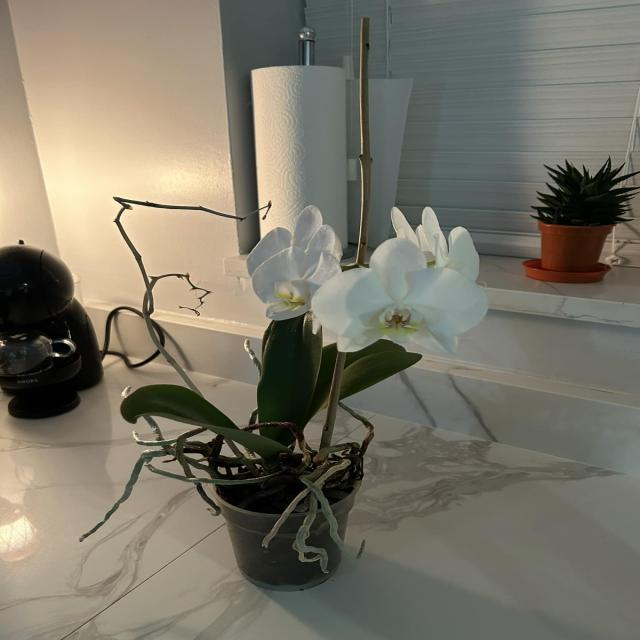flower: (340, 239, 484, 351), (246, 205, 341, 320)
leaf: (121, 384, 288, 459), (258, 319, 321, 427), (341, 343, 421, 399)
plant: (67, 185, 501, 601)
pot: (163, 420, 387, 600)
root: (81, 411, 285, 541), (103, 198, 203, 396), (293, 447, 350, 570), (293, 477, 348, 574), (135, 202, 249, 219), (263, 499, 298, 548), (230, 452, 260, 471), (263, 522, 282, 547)
